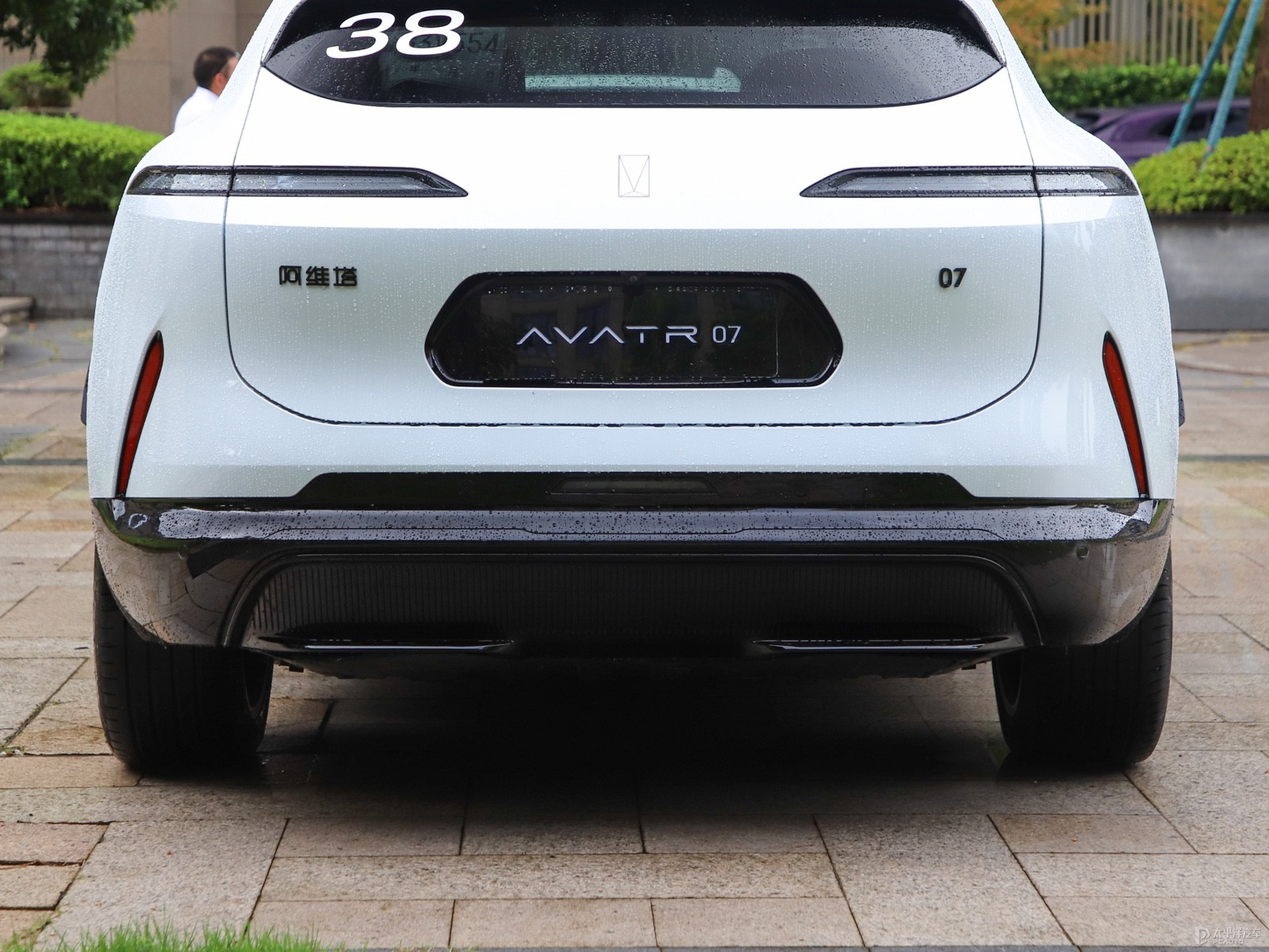AVATR: (618, 154, 650, 198)
